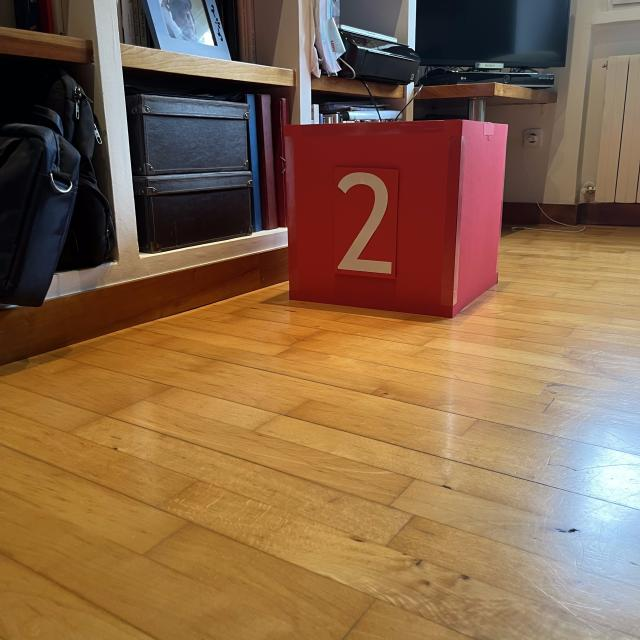box: (278, 114, 511, 321)
